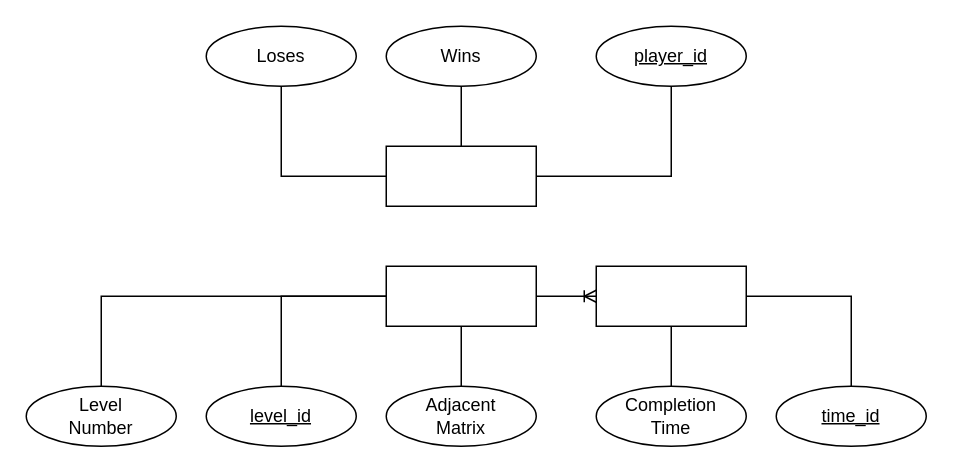
Image size: 953x473. Some labels were removed from this diagram. The shapes that lost their labels are listed below. From the top down, each one's centre as x and y in pixels, then its label:
At (x=460, y=175): "Player".
At (x=460, y=295): "Level".
At (x=670, y=295): "Time".
